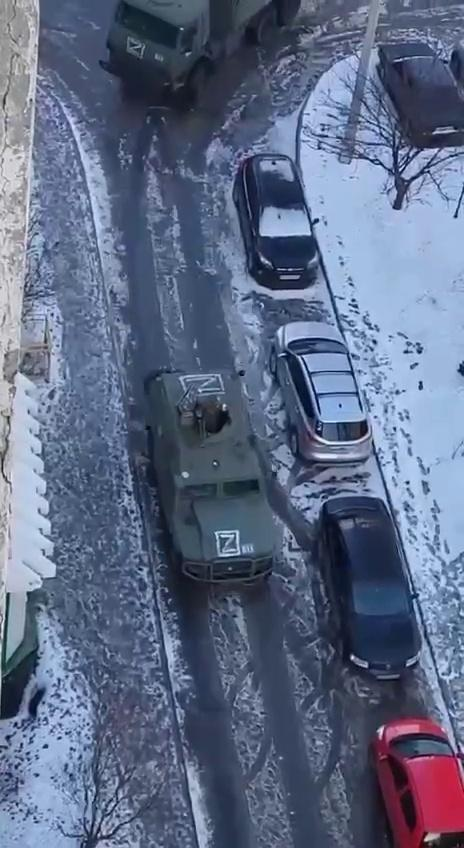armored_car: (140, 366, 277, 584)
car: (316, 495, 424, 681), (270, 320, 375, 466), (369, 718, 464, 848), (233, 152, 319, 290), (377, 41, 464, 143)
truck: (97, 0, 302, 108)
